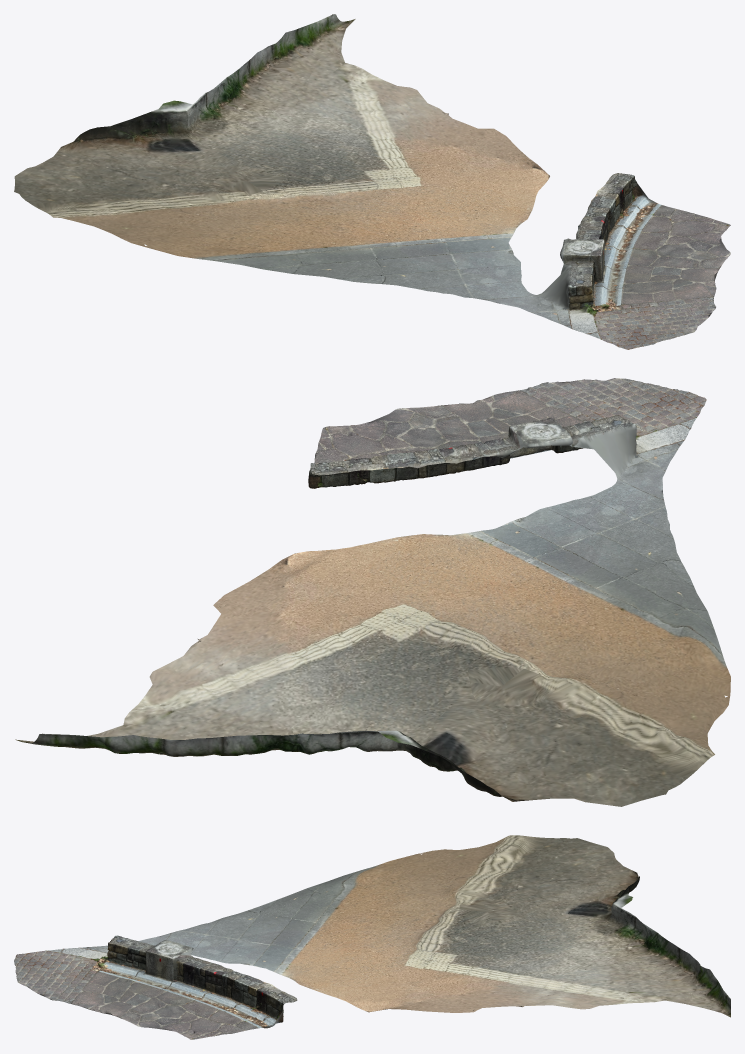
3 views of the same model, one above another, from view 1: azimuth 30°, elevation 25°; view 2: azimuth 150°, elevation 25°; view 3: azimuth 270°, elevation 25° (orthographic). The views are drawn at different scales.
Visible parts, largest first — view 1: baked_mesh_ba7d4d97; view 2: baked_mesh_ba7d4d97; view 3: baked_mesh_ba7d4d97.
Boxes of the visible parts, x1,y1,x2,y2 form: baked_mesh_ba7d4d97: [14, 14, 730, 349]; baked_mesh_ba7d4d97: [15, 378, 730, 806]; baked_mesh_ba7d4d97: [14, 835, 730, 1039].
Bounding box in the file's own units: 2.72 × 0.2029 × 3.94.
1 material, 1 textured.
